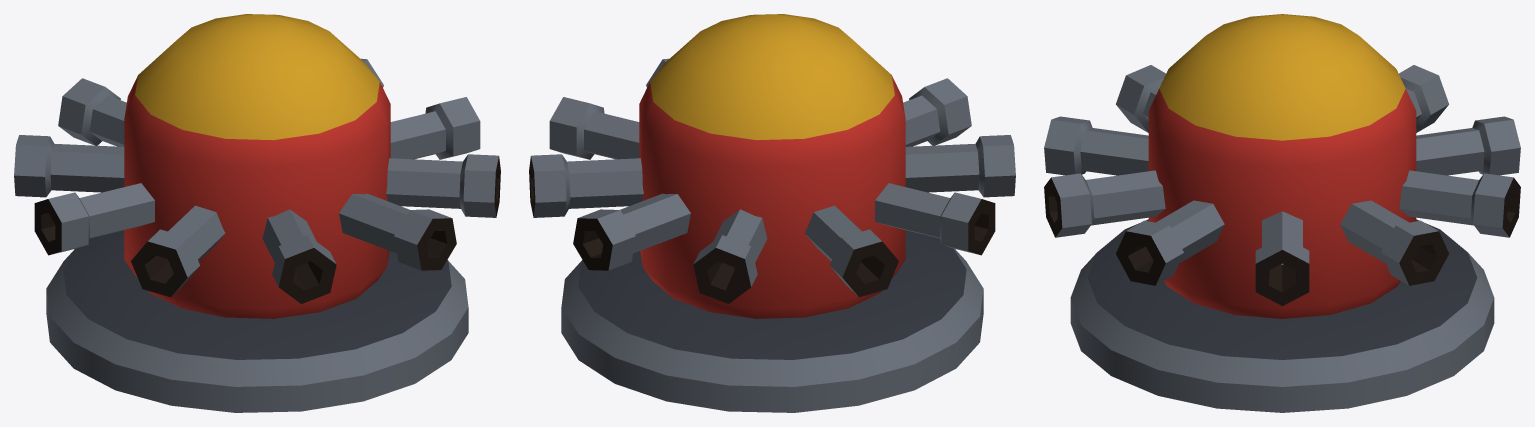
3 renders of one model, left to right at view 1: azimuth 30°, elevation 25°; view 2: azimuth 150°, elevation 25°; view 3: azimuth 270°, elevation 25°, orthographic.
Parts seen in each view (by area): view 1: tachinha_1_torreta, tachinha_0_base; view 2: tachinha_1_torreta, tachinha_0_base; view 3: tachinha_1_torreta, tachinha_0_base.
Part boxes in pixels (<box>): tachinha_1_torreta: <box>14,14,500,318</box>; tachinha_0_base: <box>46,230,468,412</box>; tachinha_1_torreta: <box>529,14,1015,318</box>; tachinha_0_base: <box>561,230,983,412</box>; tachinha_1_torreta: <box>1044,14,1520,318</box>; tachinha_0_base: <box>1070,219,1494,412</box>.
Bounding box in the file's own units: 0.774 × 0.53 × 0.7655.
